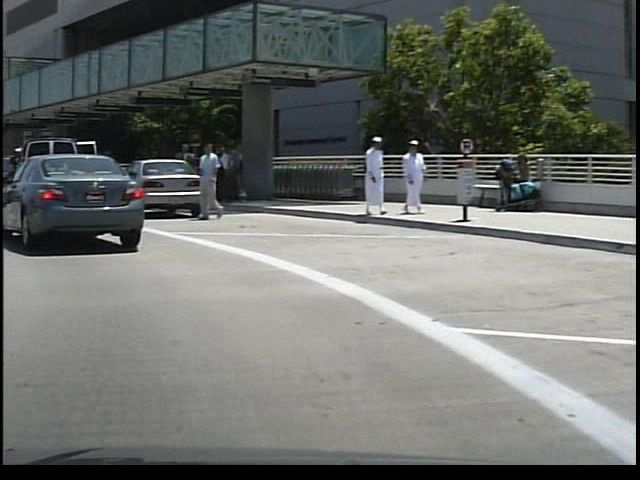person: (192, 136, 226, 227), (396, 133, 428, 217), (355, 132, 384, 220)
